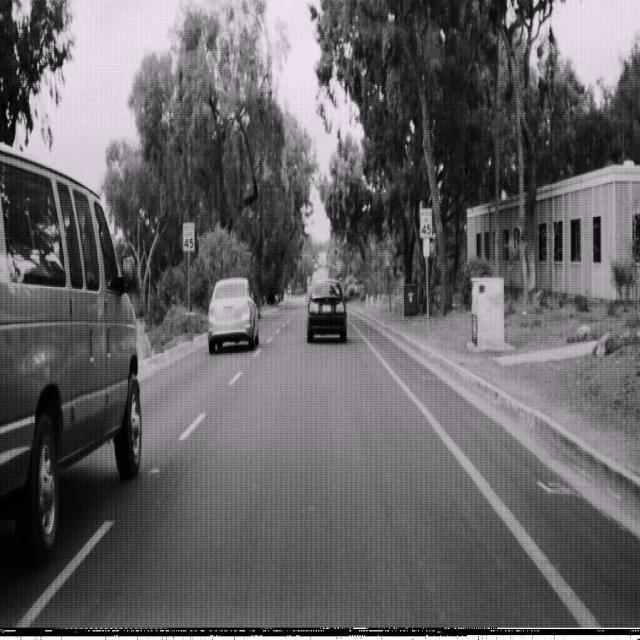speedLimit45: (418, 206, 432, 239), (182, 221, 195, 251)
